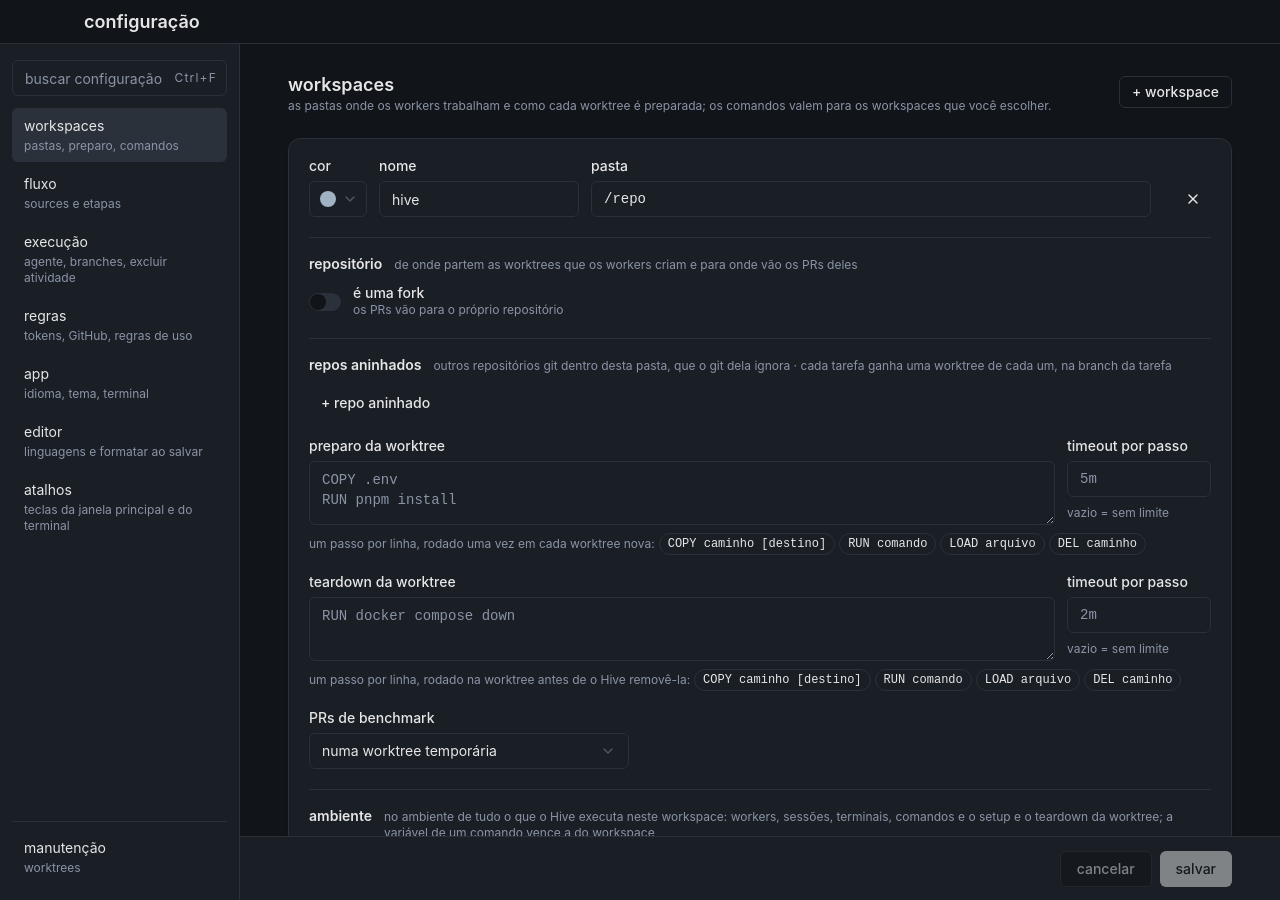
Test: commands table (#755): the column headers, a line per workspace with its own select, where the command is missing, and the note
This screenshot has width=1280, height=900.
Click the button "workspaces pastas, preparo, comandos": click(120, 135) 12,108 -> 227,162
(page scrolled)
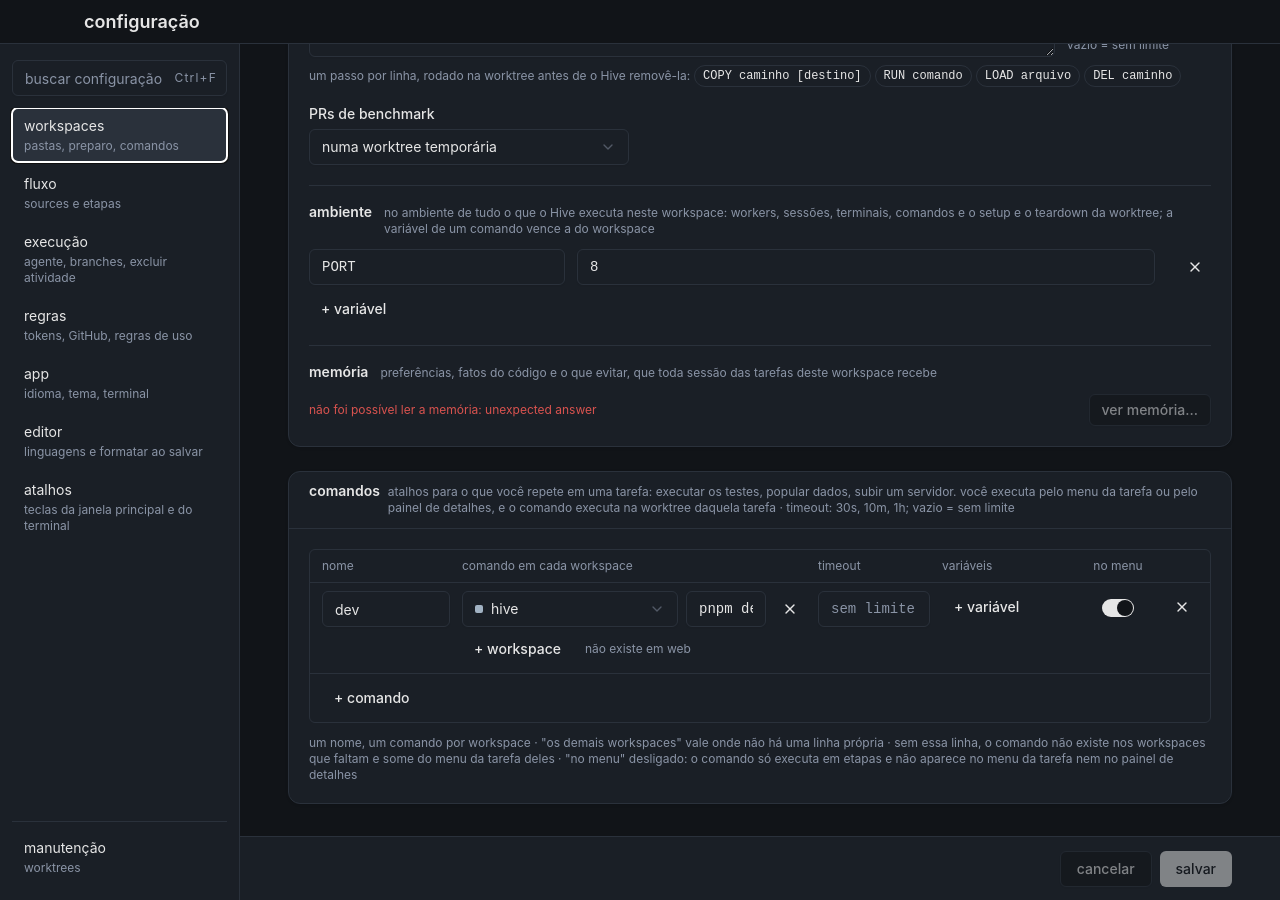
Expected: the text "nome" is shown, 322,558 -> 354,573
Expected: the text "comando em cada workspace" is shown, 462,558 -> 633,573
Expected: the text "variáveis" is shown, 942,558 -> 992,573
